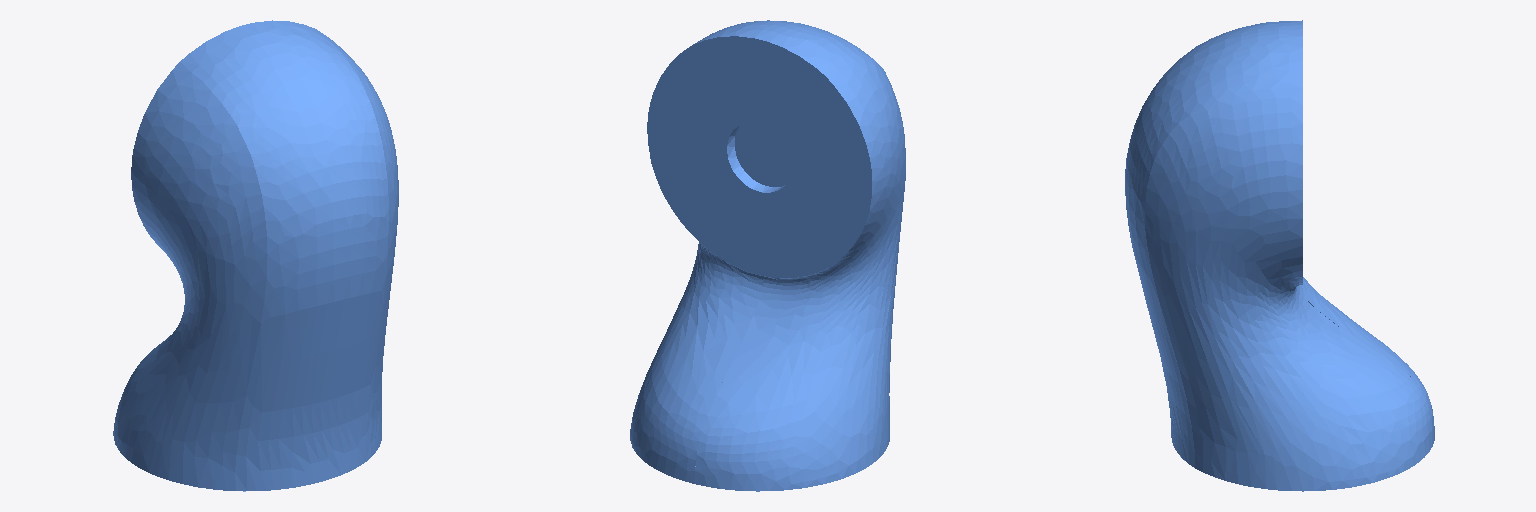
robot.urdf — lbr_iiwa:
<?xml version="1.0" ?>
<!-- ======================================================================= -->
<!-- | This document was autogenerated by xacro from lbr_iiwa.urdf.xacro   | -->
<!-- | Original xacro: https://github.com/rtkg/lbr_iiwa/archive/master.zip | -->
<!-- | EDITING THIS FILE BY HAND IS NOT RECOMMENDED                        | -->
<!-- | Changes ([author]):                                                 | -->
<!-- |   * Removed gazebo tags.                                            | -->
<!-- |   * Removed unused materials.                                       | -->
<!-- |   * Made mesh paths relative.                                       | -->
<!-- |   * Removed material fields from collision segments.                | -->
<!-- |   * Removed the self_collision_checking segment.                    | -->
<!-- |   * Removed transmission segments, since they didn't match the      | -->
<!-- |     convention, will have to added back later.                      | -->
<!-- ======================================================================= -->
<!--LICENSE:                                                                 -->
<!--Copyright (c) 2015, [author] & [author], AASS Research Center,  -->
<!--Orebro University, Sweden                                                -->
<!--All rights reserved.                                                     -->
<!--                                                                         -->
<!--Redistribution and use in source and binary forms, with or without       -->
<!--modification, are permitted provided that the following conditions are   -->
<!--met:                                                                     -->
<!--                                                                         -->
<!--1. Redistributions of source code must retain the above copyright notice,-->
<!--   this list of conditions and the following disclaimer.                 -->
<!--                                                                         -->
<!--2. Redistributions in binary form must reproduce the above copyright     -->
<!--   notice, this list of conditions and the following disclaimer in the   -->
<!--   documentation and/or other materials provided with the distribution.  -->
<!--                                                                         -->
<!--THIS SOFTWARE IS PROVIDED BY THE COPYRIGHT [author] "AS  -->
<!--IS" AND ANY EXPRESS OR IMPLIED WARRANTIES, INCLUDING, BUT NOT LIMITED TO,-->
<!--THE IMPLIED WARRANTIES OF MERCHANTABILITY AND FITNESS FOR A PARTICULAR   -->
<!--PURPOSE ARE DISCLAIMED. IN NO EVENT SHALL THE COPYRIGHT [author]        -->
<!--CONTRIBUTORS BE LIABLE FOR ANY DIRECT, INDIRECT, INCIDENTAL, SPECIAL,    -->
<!--EXEMPLARY, OR CONSEQUENTIAL DAMAGES (INCLUDING, BUT NOT LIMITED TO,      -->
<!--PROCUREMENT OF SUBSTITUTE GOODS OR SERVICES; LOSS OF USE, DATA, OR       -->
<!--PROFITS; OR BUSINESS INTERRUPTION) HOWEVER CAUSED AND ON ANY THEORY OF   -->
<!--LIABILITY, WHETHER IN CONTRACT, STRICT LIABILITY, OR TORT (INCLUDING     -->
<!--NEGLIGENCE OR OTHERWISE) ARISING IN ANY WAY OUT OF THE USE OF THIS       -->
<!--SOFTWARE, EVEN IF ADVISED OF THE POSSIBILITY OF SUCH DAMAGE.             -->
<robot name="lbr_iiwa" xmlns:xacro="http://www.ros.org/wiki/xacro">
  <!-- Import Rviz colors -->
  <material name="Grey">
    <color rgba="0.2 0.2 0.2 1.0"/>
  </material>
  <material name="Orange">
    <color rgba="1.0 0.423529411765 0.0392156862745 1.0"/>
  </material>
  <material name="Blue">
  <color rgba="0.5 0.7 1.0 1.0"/>      
</material>

  <!--Import the lbr iiwa macro -->
  <!--Import Transmissions -->
  <!--Include Utilities -->
  <!--The following macros are adapted from the LWR 4 definitions of the RCPRG - https://github.com/RCPRG-ros-pkg/lwr_robot -->
  <!--Little helper macros to define the inertia matrix needed for links.-->
  <!--Cuboid-->
  <!--Cylinder: length is along the y-axis! -->
  <!--lbr-->
  <link name="lbr_iiwa_link_0">
    <inertial>
      <origin rpy="0 0 0" xyz="-0.1 0 0.07"/>
      <!--Increase mass from 5 Kg original to provide a stable base to carry the
          arm.-->
      <mass value="0.0"/>
      <inertia ixx="0.05" ixy="0" ixz="0" iyy="0.06" iyz="0" izz="0.03"/>
    </inertial>
    <visual>
      <origin rpy="0 0 0" xyz="0 0 0"/>
      <geometry>
        <mesh filename="meshes/link_0.obj"/>
      </geometry>
      <material name="Grey">
        <color rgba="0.2 0.2 0.2 1.0"/>
      </material>
    </visual>
    <collision>
      <origin rpy="0 0 0" xyz="0 0 0"/>
      <geometry>
        <mesh filename="meshes/link_0.stl"/>
      </geometry>
    </collision>
  </link>
  <!-- joint between link_0 and link_1 -->
  <joint name="lbr_iiwa_joint_1" type="revolute">
    <parent link="lbr_iiwa_link_0"/>
    <child link="lbr_iiwa_link_1"/>
    <origin rpy="0 0 0" xyz="0 0 0.1575"/>
    <axis xyz="0 0 1"/>
    <limit effort="300" lower="-2.96705972839" upper="2.96705972839" velocity="10"/>
    <dynamics damping="0.5"/>
  </joint>
  <link name="lbr_iiwa_link_1">
    <inertial>
      <origin rpy="0 0 0" xyz="0 -0.03 0.12"/>
      <mass value="4"/>
      <inertia ixx="0.1" ixy="0" ixz="0" iyy="0.09" iyz="0" izz="0.02"/>
    </inertial>
    <visual>
      <origin rpy="0 0 0" xyz="0 0 0"/>
      <geometry>
        <mesh filename="meshes/link_1.obj"/>
      </geometry>
      <material name="Blue">
        <color rgba="0.5 0.7 1.0 1.0"/>
      </material>
    </visual>
    <collision>
      <origin rpy="0 0 0" xyz="0 0 0"/>
      <geometry>
        <mesh filename="meshes/link_1.stl"/>
      </geometry>
    </collision>
  </link>
  <!-- joint between link_1 and link_2 -->
  <joint name="lbr_iiwa_joint_2" type="revolute">
    <parent link="lbr_iiwa_link_1"/>
    <child link="lbr_iiwa_link_2"/>
    <origin rpy="1.57079632679   0 3.14159265359" xyz="0 0 0.2025"/>
    <axis xyz="0 0 1"/>
    <limit effort="300" lower="-2.09439510239" upper="2.09439510239" velocity="10"/>
    <dynamics damping="0.5"/>
  </joint>
  <link name="lbr_iiwa_link_2">
    <inertial>
      <origin rpy="0 0 0" xyz="0.0003 0.059 0.042"/>
      <mass value="4"/>
      <inertia ixx="0.05" ixy="0" ixz="0" iyy="0.018" iyz="0" izz="0.044"/>
    </inertial>
    <visual>
      <origin rpy="0 0 0" xyz="0 0 0"/>
      <geometry>
        <mesh filename="meshes/link_2.obj"/>
      </geometry>
      <material name="Blue">
        <color rgba="0.5 0.7 1.0 1.0"/>
      </material>
    </visual>
    <collision>
      <origin rpy="0 0 0" xyz="0 0 0"/>
      <geometry>
        <mesh filename="meshes/link_2.stl"/>
      </geometry>
    </collision>
  </link>
  <!-- joint between link_2 and link_3 -->
  <joint name="lbr_iiwa_joint_3" type="revolute">
    <parent link="lbr_iiwa_link_2"/>
    <child link="lbr_iiwa_link_3"/>
    <origin rpy="1.57079632679 0 3.14159265359" xyz="0 0.2045 0"/>
    <axis xyz="0 0 1"/>
    <limit effort="300" lower="-2.96705972839" upper="2.96705972839" velocity="10"/>
    <dynamics damping="0.5"/>
  </joint>
  <link name="lbr_iiwa_link_3">
    <inertial>
      <origin rpy="0 0 0" xyz="0 0.03 0.13"/>
      <mass value="3"/>
      <inertia ixx="0.08" ixy="0" ixz="0" iyy="0.075" iyz="0" izz="0.01"/>
    </inertial>
    <visual>
      <origin rpy="0 0 0" xyz="0 0 0"/>
      <geometry>
        <mesh filename="meshes/link_3.obj"/>
      </geometry>
      <material name="Orange">
        <color rgba="1.0 0.423529411765 0.0392156862745 1.0"/>
      </material>
    </visual>
    <collision>
      <origin rpy="0 0 0" xyz="0 0 0"/>
      <geometry>
        <mesh filename="meshes/link_3.stl"/>
      </geometry>
    </collision>
  </link>
  <!-- joint between link_3 and link_4 -->
  <joint name="lbr_iiwa_joint_4" type="revolute">
    <parent link="lbr_iiwa_link_3"/>
    <child link="lbr_iiwa_link_4"/>
    <origin rpy="1.57079632679 0 0" xyz="0 0 0.2155"/>
    <axis xyz="0 0 1"/>
    <limit effort="300" lower="-2.09439510239" upper="2.09439510239" velocity="10"/>
    <dynamics damping="0.5"/>
  </joint>
  <link name="lbr_iiwa_link_4">
    <inertial>
      <origin rpy="0 0 0" xyz="0 0.067 0.034"/>
      <mass value="2.7"/>
      <inertia ixx="0.03" ixy="0" ixz="0" iyy="0.01" iyz="0" izz="0.029"/>
    </inertial>
    <visual>
      <origin rpy="0 0 0" xyz="0 0 0"/>
      <geometry>
        <mesh filename="meshes/link_4.obj"/>
      </geometry>
        <material name="Blue">
        <color rgba="0.5 0.7 1.0 1.0"/>
        </material>
    </visual>
    <collision>
      <origin rpy="0 0 0" xyz="0 0 0"/>
      <geometry>
        <mesh filename="meshes/link_4.stl"/>
      </geometry>
    </collision>
  </link>
  <!-- joint between link_4 and link_5 -->
  <joint name="lbr_iiwa_joint_5" type="revolute">
    <parent link="lbr_iiwa_link_4"/>
    <child link="lbr_iiwa_link_5"/>
    <origin rpy="-1.57079632679 3.14159265359 0" xyz="0 0.1845 0"/>
    <axis xyz="0 0 1"/>
    <limit effort="300" lower="-2.96705972839" upper="2.96705972839" velocity="10"/>
    <dynamics damping="0.5"/>
  </joint>
  <link name="lbr_iiwa_link_5">
    <inertial>
      <origin rpy="0 0 0" xyz="0.0001 0.021 0.076"/>
      <mass value="1.7"/>
      <inertia ixx="0.02" ixy="0" ixz="0" iyy="0.018" iyz="0" izz="0.005"/>
    </inertial>
    <visual>
      <origin rpy="0 0 0" xyz="0 0 0"/>
      <geometry>
        <mesh filename="meshes/link_5.obj"/>
      </geometry>
      <material name="Blue">
        <color rgba="0.5 0.7 1.0 1.0"/>
      </material>
    </visual>
    <collision>
      <origin rpy="0 0 0" xyz="0 0 0"/>
      <geometry>
        <mesh filename="meshes/link_5.stl"/>
      </geometry>
    </collision>
  </link>
  <!-- joint between link_5 and link_6 -->
  <joint name="lbr_iiwa_joint_6" type="revolute">
    <parent link="lbr_iiwa_link_5"/>
    <child link="lbr_iiwa_link_6"/>
    <origin rpy="1.57079632679 0 0" xyz="0 0 0.2155"/>
    <axis xyz="0 0 1"/>
    <limit effort="300" lower="-2.09439510239" upper="2.09439510239" velocity="10"/>
    <dynamics damping="0.5"/>
  </joint>
  <link name="lbr_iiwa_link_6">
    <inertial>
      <origin rpy="0 0 0" xyz="0 0.0006 0.0004"/>
      <mass value="1.8"/>
      <inertia ixx="0.005" ixy="0" ixz="0" iyy="0.0036" iyz="0" izz="0.0047"/>
    </inertial>
    <visual>
      <origin rpy="0 0 0" xyz="0 0 0"/>
      <geometry>
        <mesh filename="meshes/link_6.obj"/>
      </geometry>
        <material name="Orange">
            <color rgba="1.0 0.423529411765 0.0392156862745 1.0"/>
        </material>
    </visual>
    <collision>
      <origin rpy="0 0 0" xyz="0 0 0"/>
      <geometry>
        <mesh filename="meshes/link_6.stl"/>
      </geometry>
    </collision>
  </link>
  <!-- joint between link_6 and link_7 -->
  <joint name="lbr_iiwa_joint_7" type="revolute">
    <parent link="lbr_iiwa_link_6"/>
    <child link="lbr_iiwa_link_7"/>
    <origin rpy="-1.57079632679 3.14159265359 0" xyz="0 0.081 0"/>
    <axis xyz="0 0 1"/>
    <limit effort="300" lower="-3.05432619099" upper="3.05432619099" velocity="10"/>
    <dynamics damping="0.5"/>
  </joint>
  <link name="lbr_iiwa_link_7">
    <inertial>
      <origin rpy="0 0 0" xyz="0 0 0.02"/>
      <mass value="0.3"/>
      <inertia ixx="0.001" ixy="0" ixz="0" iyy="0.001" iyz="0" izz="0.001"/>
    </inertial>
    <visual>
      <origin rpy="0 0 0" xyz="0 0 0"/>
      <geometry>
        <mesh filename="meshes/link_7.obj"/>
      </geometry>
        <material name="Grey">
    <color rgba="0.2 0.2 0.2 1.0"/>
    </material>
    </visual>
    <collision>
      <origin rpy="0 0 0" xyz="0 0 0"/>
      <geometry>
        <mesh filename="meshes/link_7.stl"/>
      </geometry>
    </collision>
  </link>
  
</robot>

--- What the picture shows (computed from the rendered views, not written in the file) ---
3 views of the same robot in one strip: view 1: azimuth 30°, elevation 25°; view 2: azimuth 150°, elevation 25°; view 3: azimuth 270°, elevation 25° (orthographic).
Robot: lbr_iiwa — 8 links, 7 joints (7 revolute); root link lbr_iiwa_link_0; default pose: every joint at zero.
Visible links, largest first — view 1: lbr_iiwa_link_1; view 2: lbr_iiwa_link_1; view 3: lbr_iiwa_link_1.
Boxes of the visible links, left/top/right/bottom form: lbr_iiwa_link_1: left=113, top=20, right=398, bottom=491; lbr_iiwa_link_1: left=630, top=20, right=905, bottom=491; lbr_iiwa_link_1: left=1125, top=20, right=1434, bottom=491.
Bounding box of the posed robot: 0.1711 × 0.2011 × 0.2979 m (x, y, z).
Meshes: 8 distinct files referenced, 1 mesh visuals loaded (1 OBJ); not drawn: 7 (reference not matched to a file when rendering).